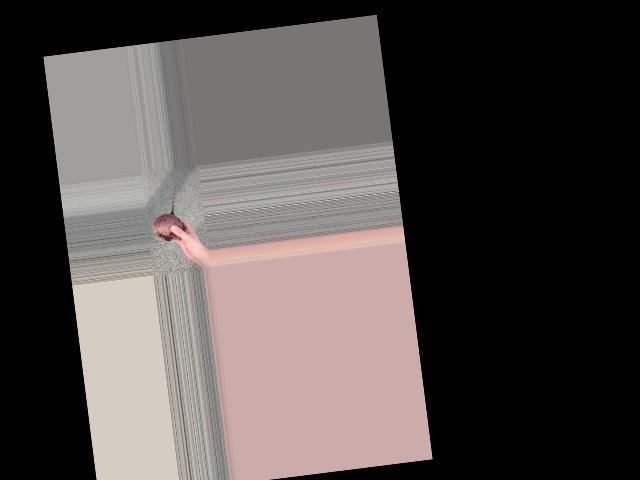beet: (147, 185, 184, 242)
